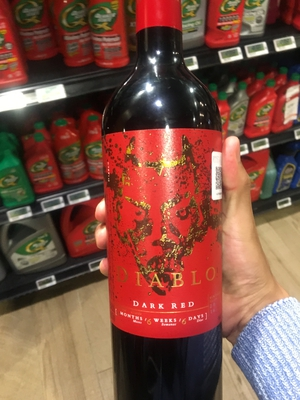diablo dark red: (103, 21, 248, 382)
